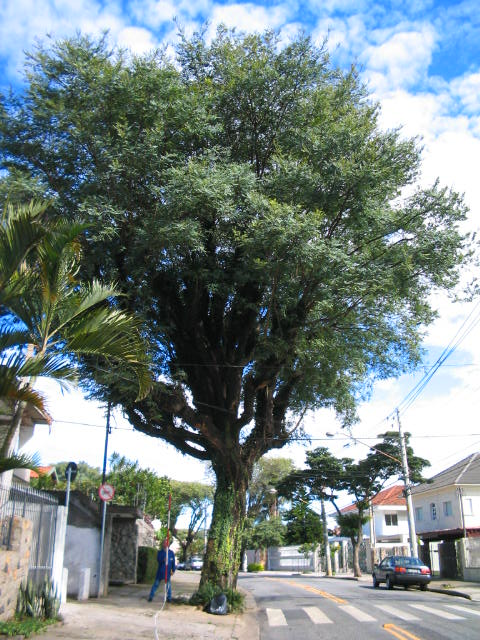crown: (6, 27, 474, 430)
stem: (187, 457, 267, 606)
stick: (158, 492, 174, 603)
tree: (3, 24, 474, 605)
